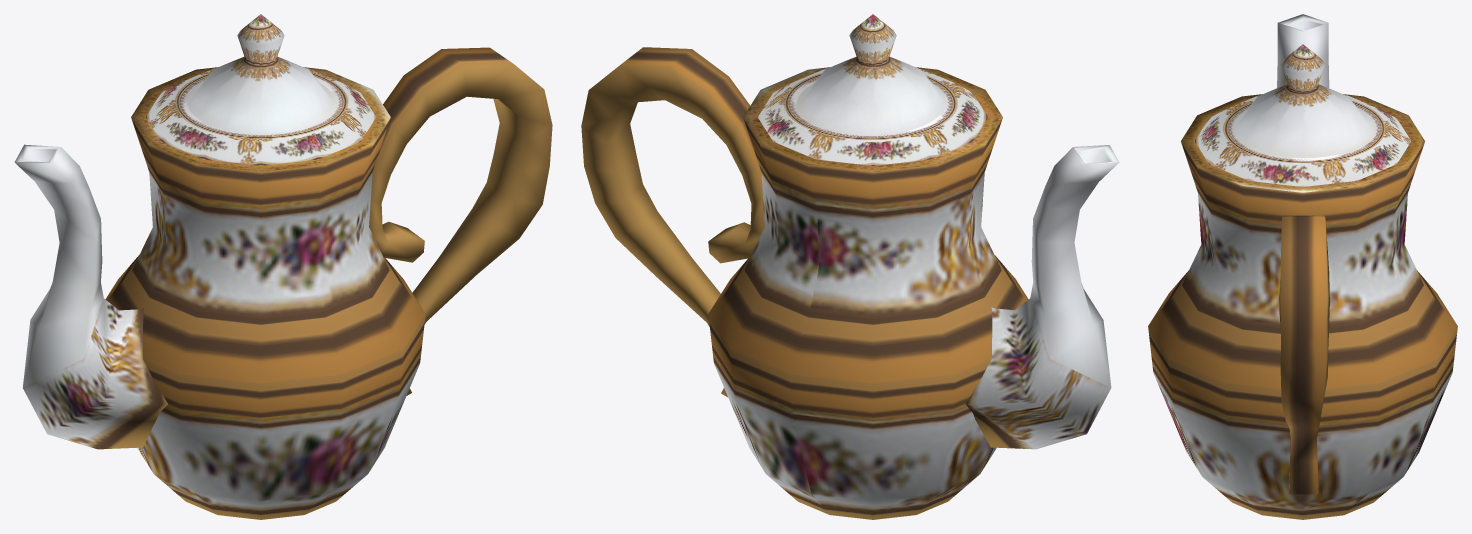
The model's file is Teapot.fbx.
The picture shows the model from 3 angles, left to right: view 1: azimuth 30°, elevation 25°; view 2: azimuth 150°, elevation 25°; view 3: azimuth 270°, elevation 25°; orthographic projection. The views are drawn at different scales.
Visible parts, largest first — view 1: Teapot_LOD0; view 2: Teapot_LOD0; view 3: Teapot_LOD0.
Boxes of the visible parts, x1,y1,x2,y2 form: Teapot_LOD0: (14, 14, 552, 519); Teapot_LOD0: (581, 14, 1119, 519); Teapot_LOD0: (1148, 14, 1457, 519).
Size of what is drawn, in the model's own units: 68.08 by 57.98 by 36.9.
